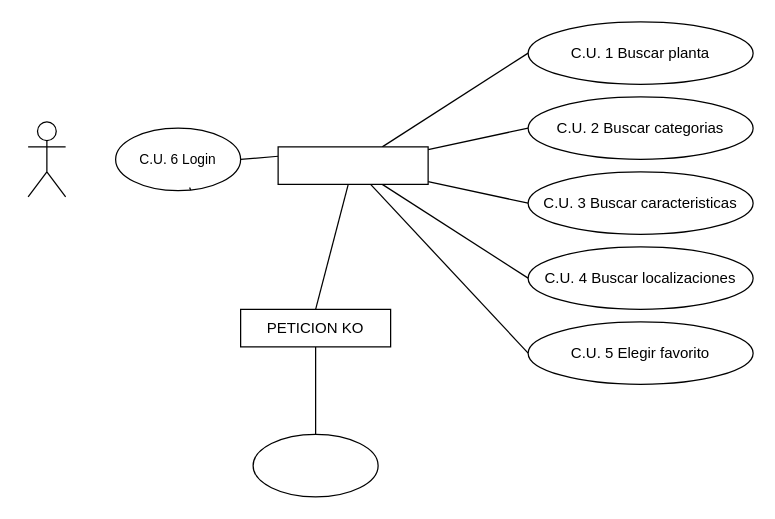
The diagram is 775 pixels wide and 519 high, and some of its shapes have lost their labels. The centre of each missing label's shape, as x and y in pixels:
"C.U. 7 Register" belongs at [315,465].
"PETICION OK" belongs at [352,165].
"Usuario" belongs at [46,159].
